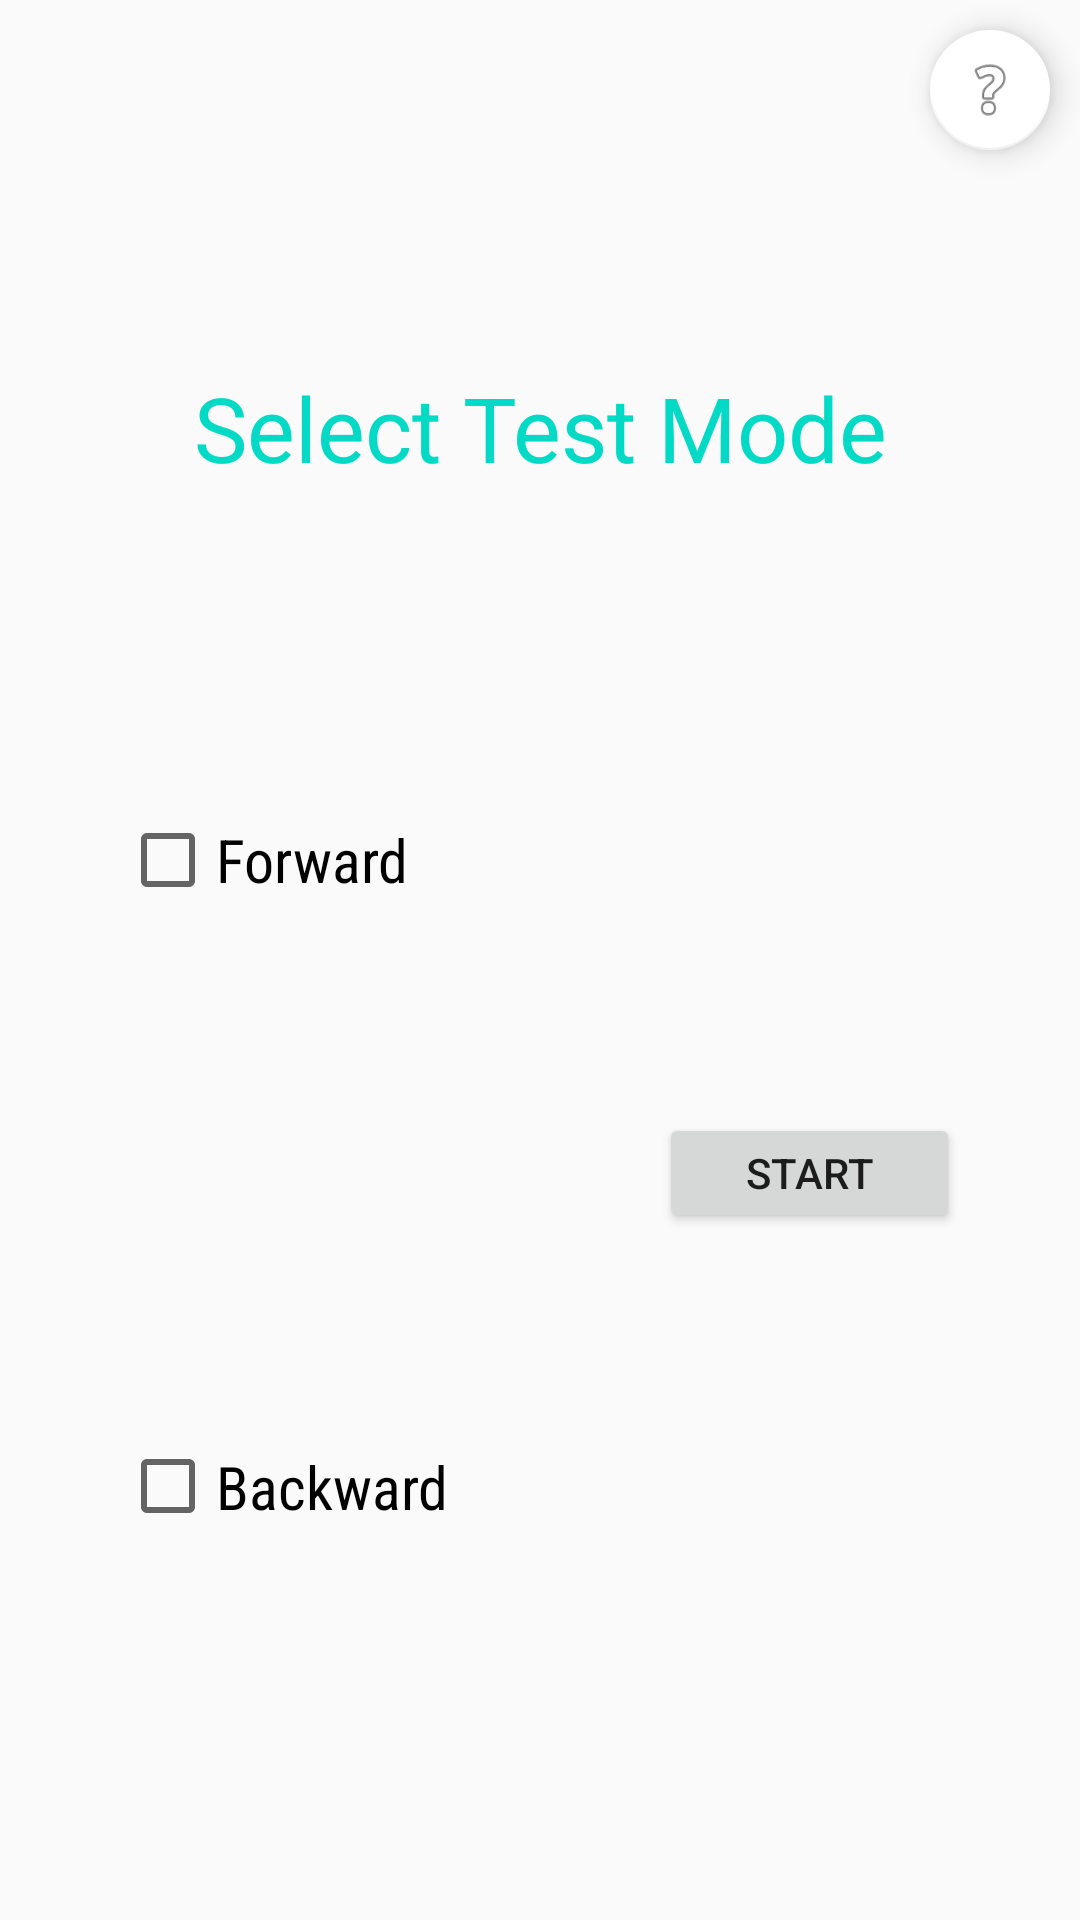

Locate icon controls on the screen. Image size 1080*1920, boxes as bbox=(x1, y1, x2, y2).
help: bbox=(930, 30, 1050, 150)
